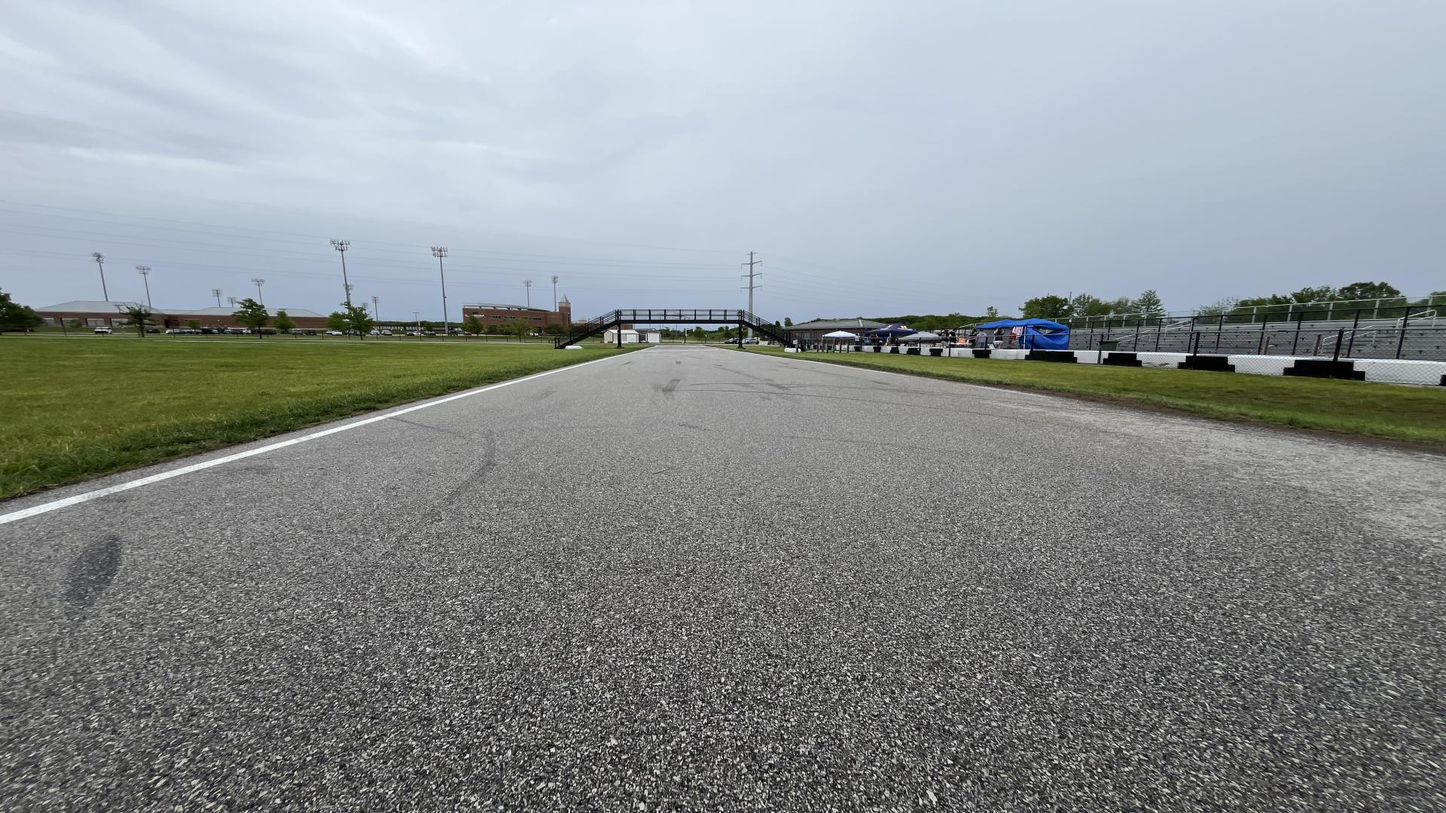white-line: (0, 352, 633, 525), (731, 351, 1050, 398), (641, 346, 655, 350), (711, 347, 726, 349)
